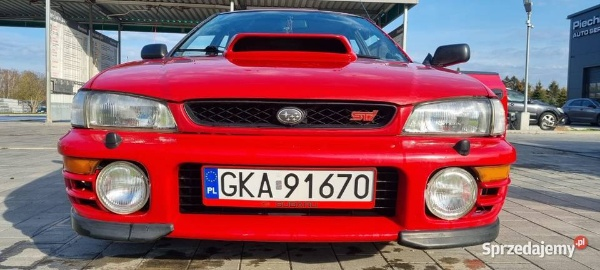licence: (203, 162, 376, 209)
